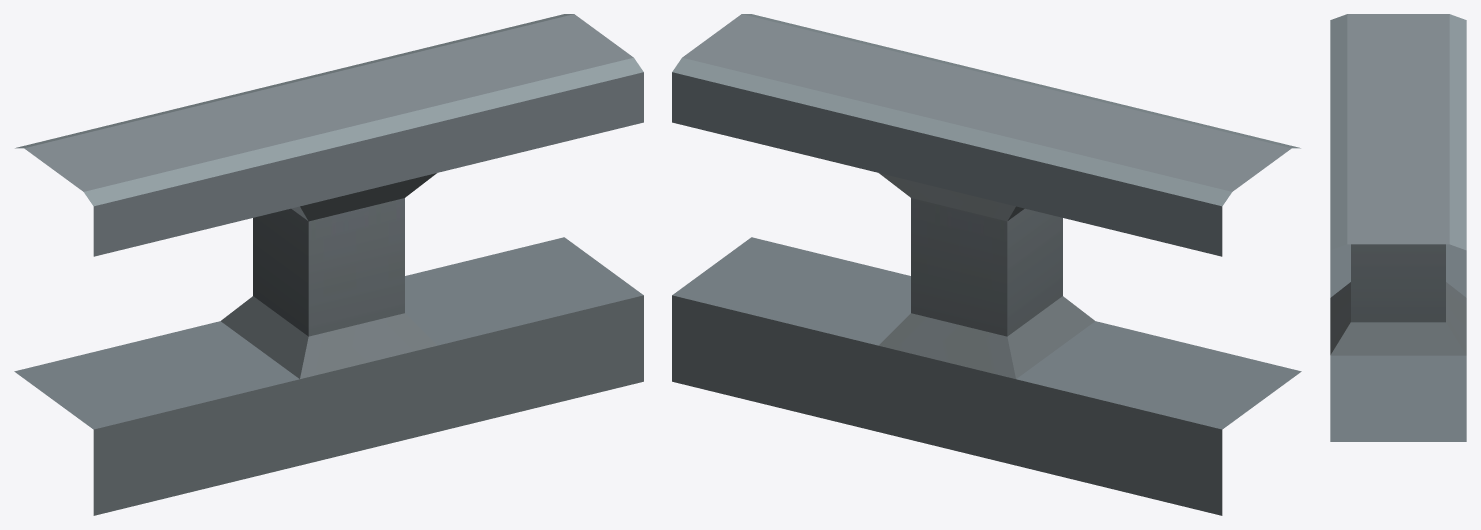
Rendered from barrier-half-gltf.glb.
The picture shows the model from 3 angles, left to right: view 1: azimuth 30°, elevation 25°; view 2: azimuth 150°, elevation 25°; view 3: azimuth 270°, elevation 25°; orthographic projection. The views are drawn at different scales.
Visible parts, largest first — view 1: barrier_half; view 2: barrier_half; view 3: barrier_half.
Boxes of the visible parts, x1,y1,x2,y2 form: barrier_half: (14, 14, 643, 515); barrier_half: (672, 14, 1301, 515); barrier_half: (1330, 14, 1466, 441).
Bounding box in the file's own units: 2 × 1.1 × 0.5001.
1 material, 1 textured.
